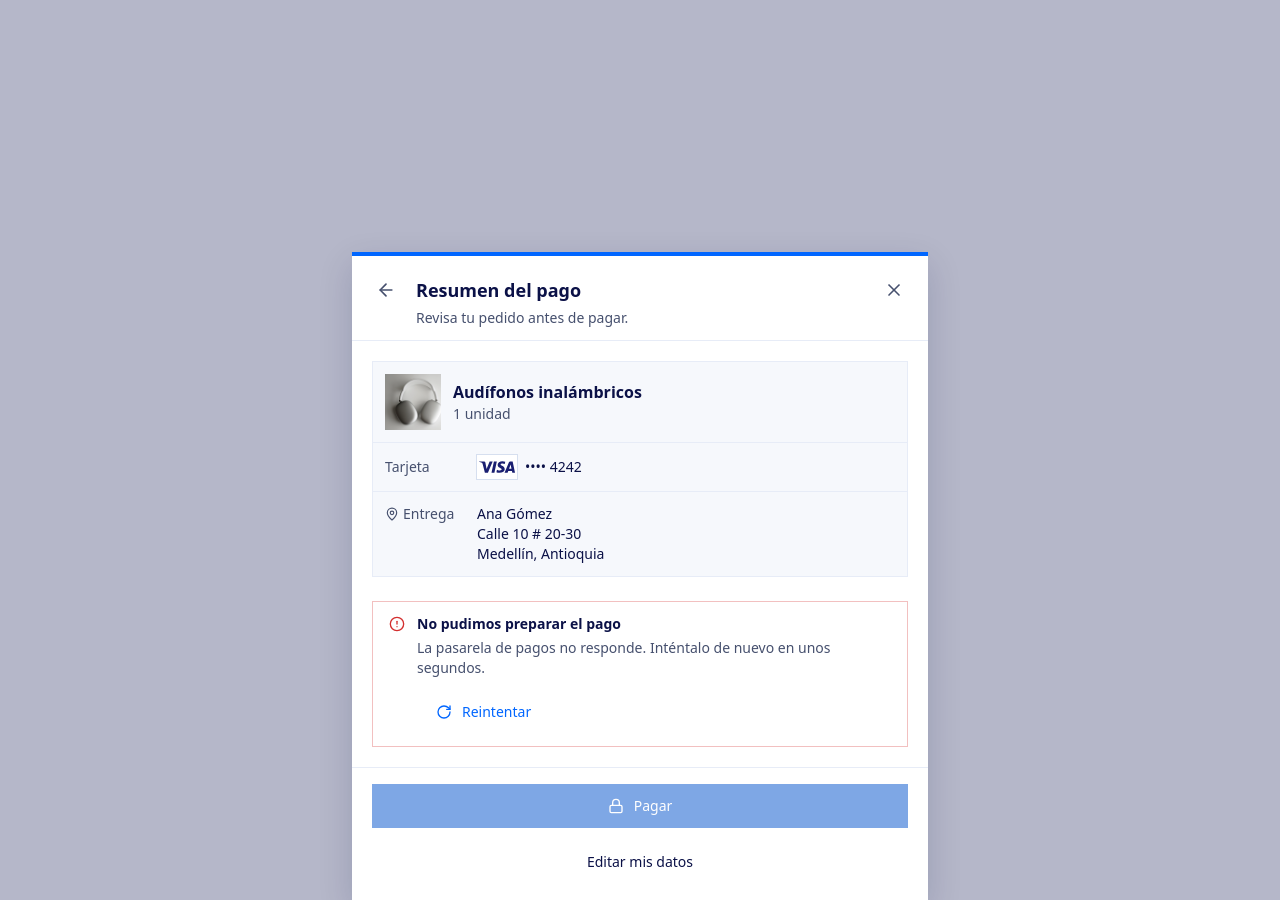
Test case: SummaryBackdrop › si no se pudo preparar el pago, lo explica y permite reintentar
Expected: the message shows "No pudimos preparar el pago", [417,614,621,633]
Expected: the button "Pagar" is disabled, [372,784,908,828]
Step 1. Click the button "Reintentar" → point(484, 712), box [417,690,550,734]
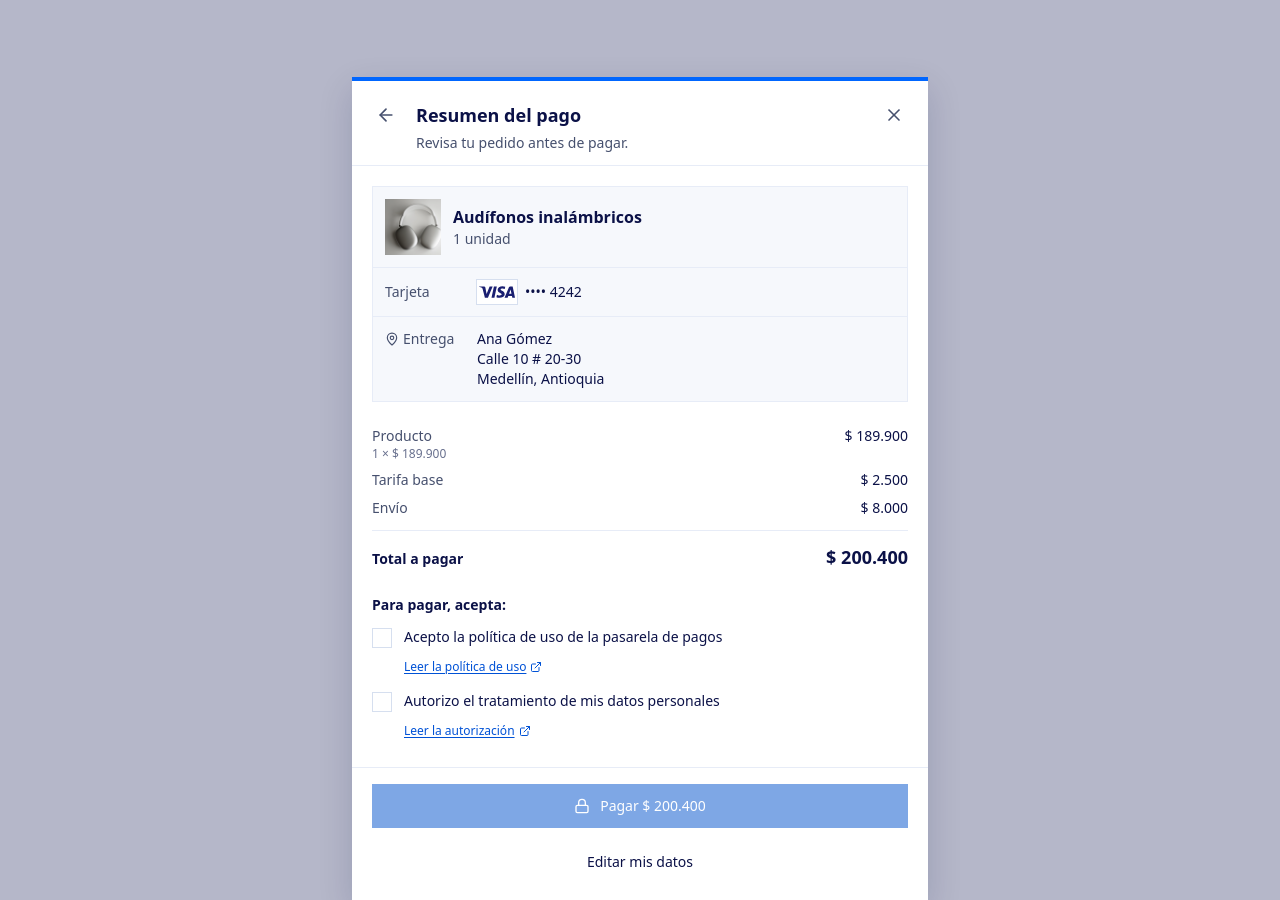
Now the checkbox labelled "Acepto la política de uso de la pasarela de pagos" is shown, box [372,627,722,648]
